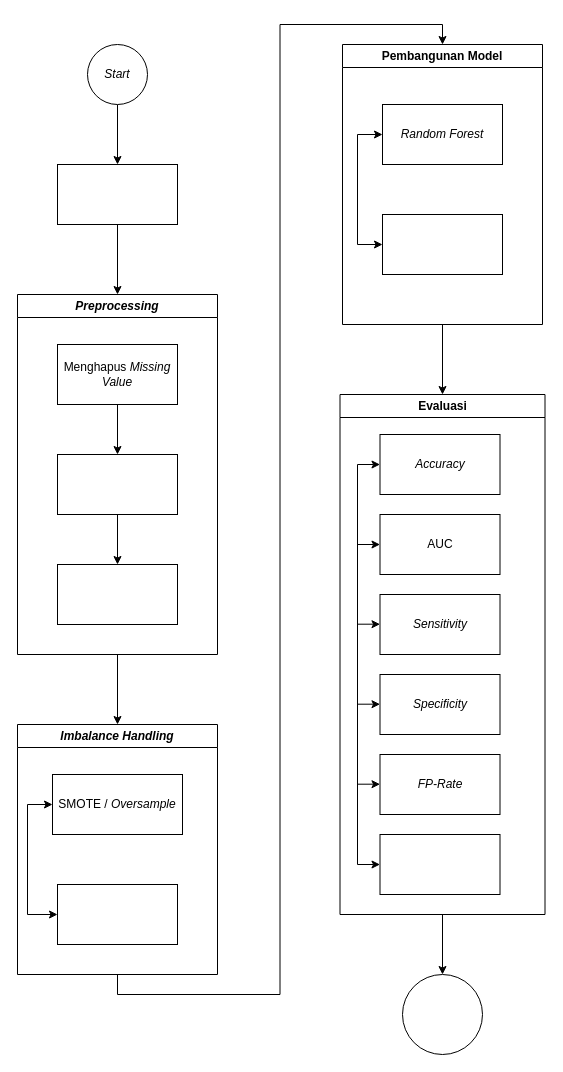
Some shapes in this 563 by 1072 pixel diagram are drawn without their labels. The centre of each missing label's shape, as x and y in pixels:
End: (x=442, y=1014)
Feature Engineering: (x=117, y=594)
G-Mean: (x=439, y=864)
Inisiasi: (x=117, y=194)
LightGBM: (x=442, y=244)
Menghapus Outlier: (x=117, y=484)
RUS / Undersample: (x=117, y=914)
